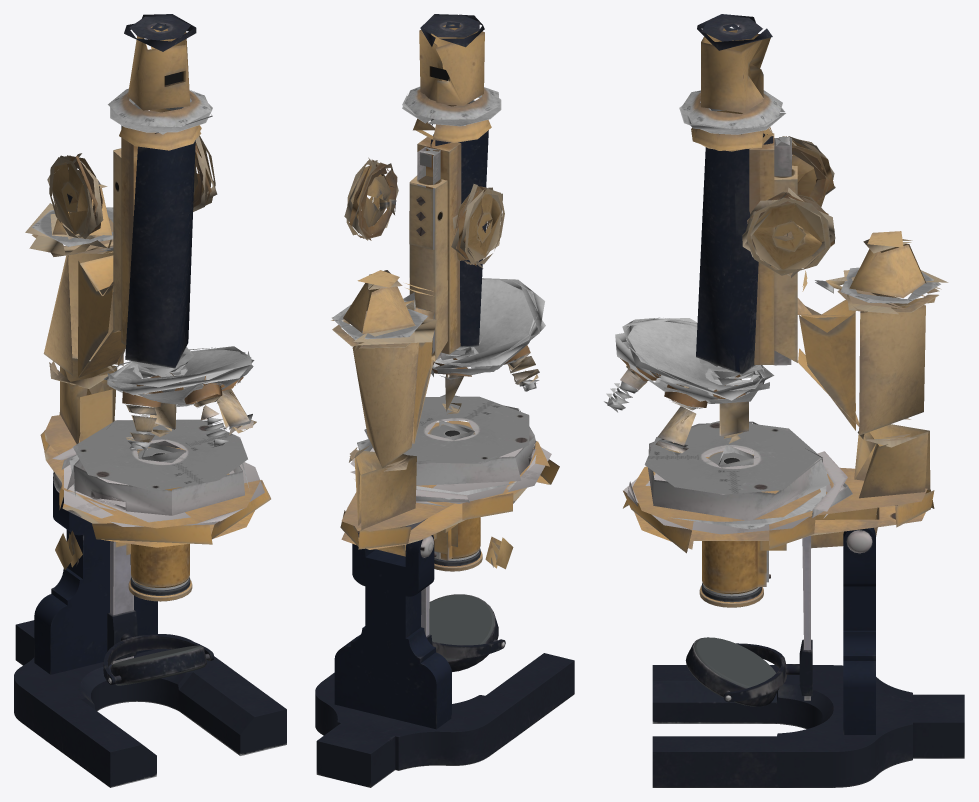
Rendered from vintage_microscope.fbx.
The picture shows the model from 3 angles, left to right: view 1: azimuth 30°, elevation 25°; view 2: azimuth 150°, elevation 25°; view 3: azimuth 270°, elevation 25°; orthographic projection. The views are drawn at different scales.
Parts seen in each view (by area): view 1: vintage_microscope_rack_mount_support, vintage_microscope_base, vintage_microscope_eye_piece, vintage_microscope_revolver, vintage_microscope_adjustment, vintage_microscope_mirror_arm, vintage_microscope_condenser, vintage_microscope_mirror_base; view 2: vintage_microscope_rack_mount_support, vintage_microscope_base, vintage_microscope_eye_piece, vintage_microscope_adjustment, vintage_microscope_mirror_base, vintage_microscope_revolver, vintage_microscope_condenser, vintage_microscope_mirror_arm; view 3: vintage_microscope_rack_mount_support, vintage_microscope_base, vintage_microscope_eye_piece, vintage_microscope_adjustment, vintage_microscope_revolver, vintage_microscope_condenser, vintage_microscope_mirror_base, vintage_microscope_mirror_arm.
Part boxes in pixels (x1,y1,x2,y2): vintage_microscope_rack_mount_support: (25, 148, 270, 569); vintage_microscope_base: (14, 471, 286, 787); vintage_microscope_eye_piece: (103, 14, 251, 387); vintage_microscope_revolver: (107, 359, 256, 451); vintage_microscope_adjustment: (47, 135, 217, 239); vintage_microscope_mirror_arm: (103, 541, 214, 684); vintage_microscope_condenser: (128, 446, 192, 601); vintage_microscope_mirror_base: (110, 645, 206, 685); vintage_microscope_rack_mount_support: (331, 175, 559, 569); vintage_microscope_base: (315, 535, 574, 787); vintage_microscope_eye_piece: (402, 14, 544, 368); vintage_microscope_adjustment: (344, 157, 504, 268); vintage_microscope_mirror_base: (429, 594, 498, 671); vintage_microscope_revolver: (431, 320, 545, 414); vintage_microscope_condenser: (429, 423, 482, 571); vintage_microscope_mirror_arm: (406, 519, 505, 658); vintage_microscope_rack_mount_support: (623, 165, 948, 553); vintage_microscope_base: (652, 528, 964, 787); vintage_microscope_eye_piece: (622, 14, 791, 400); vintage_microscope_adjustment: (742, 136, 835, 277); vintage_microscope_revolver: (604, 333, 769, 454); vintage_microscope_condenser: (699, 451, 770, 607); vintage_microscope_mirror_base: (685, 637, 779, 706); vintage_microscope_mirror_arm: (723, 535, 812, 702).
Size of the model in its own units: 10.69 by 39.96 by 18.25.
2 materials, 2 textured.
